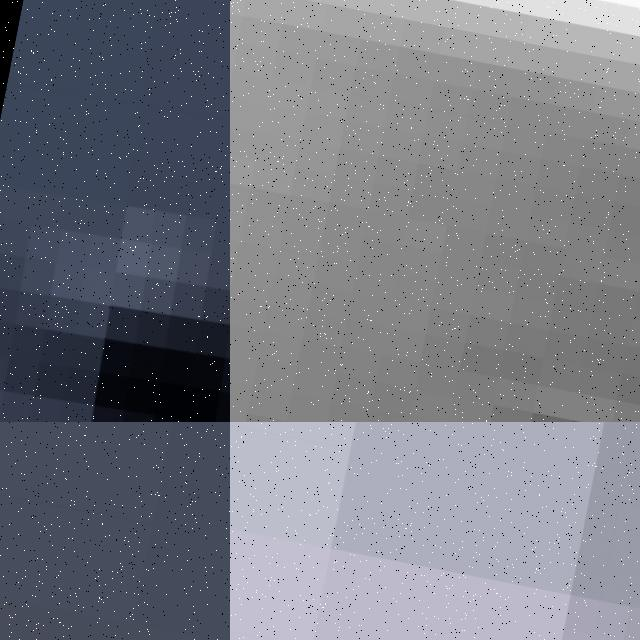drone: (0, 0, 230, 422)
